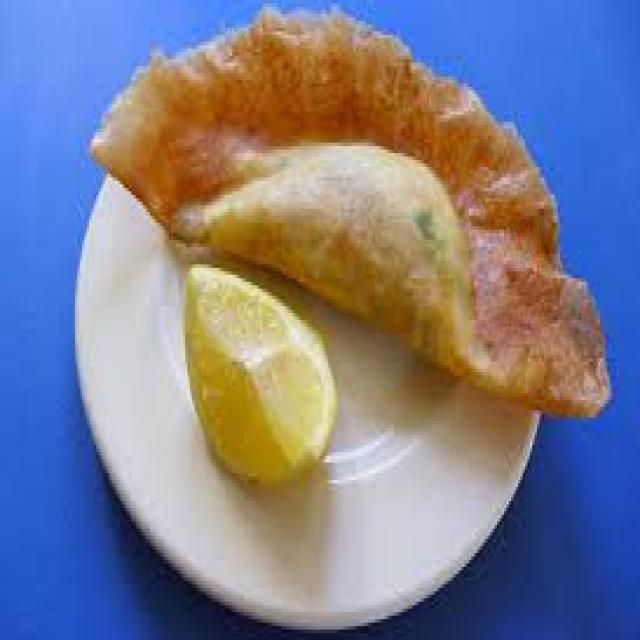brik: (88, 23, 614, 375)
